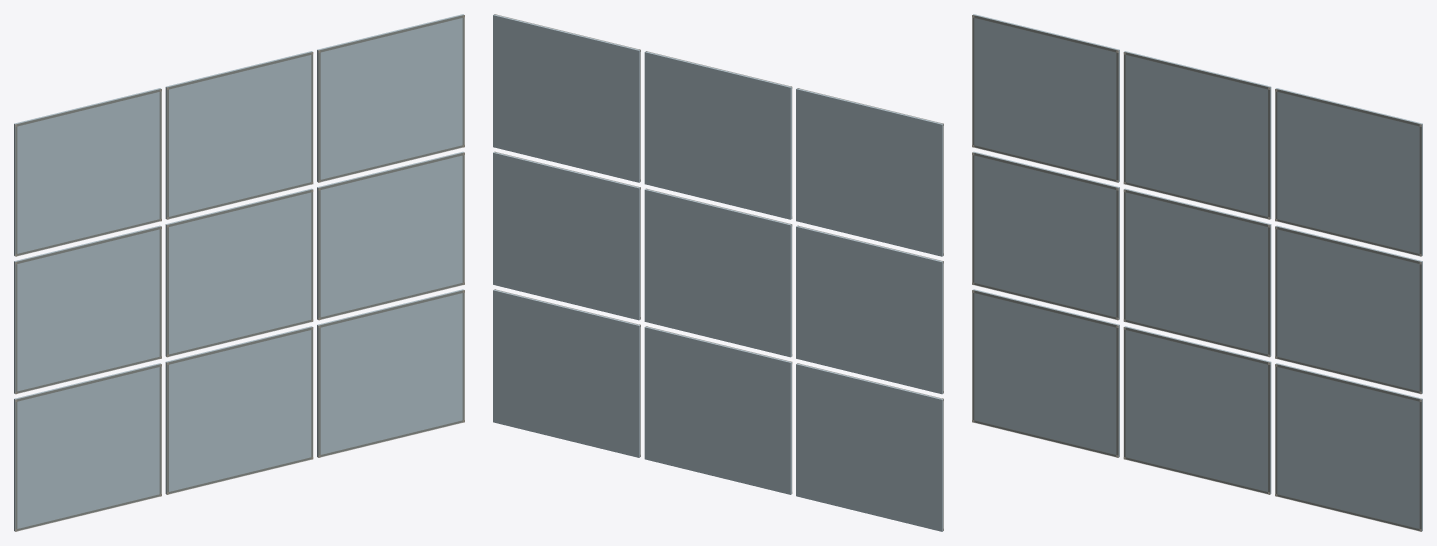
Rendered from PubWindowGlass.glb.
3 views of the same model, side by side, from view 1: azimuth 30°, elevation 25°; view 2: azimuth 150°, elevation 25°; view 3: azimuth 330°, elevation 25° (orthographic).
Parts seen in each view (by area): view 1: ClearPane_2_0, ClearPane_0_0.001, ClearPane_0_1.001, ClearPane_1_0.001, ClearPane_1_1.001, ClearPane_1_2.001, ClearPane_2_1, ClearPane_2_2, ClearPane_0_2.001; view 2: ClearPane_0_2.001, ClearPane_2_0, ClearPane_1_2.001, ClearPane_0_1.001, ClearPane_1_0.001, ClearPane_1_1.001, ClearPane_2_1, ClearPane_2_2, ClearPane_0_0.001; view 3: ClearPane_0_0.001, ClearPane_2_0, ClearPane_0_1.001, ClearPane_0_2.001, ClearPane_1_0.001, ClearPane_1_1.001, ClearPane_1_2.001, ClearPane_2_1, ClearPane_2_2.
Part boxes in pixels (x1,y1,x2,y2): ClearPane_2_0: (317,289,464,457); ClearPane_0_0.001: (14,363,161,531); ClearPane_0_1.001: (14,225,161,393); ClearPane_1_0.001: (165,326,312,494); ClearPane_1_1.001: (165,188,312,356); ClearPane_1_2.001: (165,51,312,218); ClearPane_2_1: (317,151,464,319); ClearPane_2_2: (317,14,464,182); ClearPane_0_2.001: (14,88,161,255); ClearPane_0_2.001: (796,88,943,256); ClearPane_2_0: (493,289,640,457); ClearPane_1_2.001: (644,51,791,219); ClearPane_0_1.001: (796,226,943,394); ClearPane_1_0.001: (644,326,791,494); ClearPane_1_1.001: (644,189,791,357); ClearPane_2_1: (493,152,640,320); ClearPane_2_2: (493,14,640,182); ClearPane_0_0.001: (796,363,943,531); ClearPane_0_0.001: (972,289,1119,457); ClearPane_2_0: (1275,363,1422,531); ClearPane_0_1.001: (972,151,1119,319); ClearPane_0_2.001: (972,14,1119,182); ClearPane_1_0.001: (1124,326,1271,494); ClearPane_1_1.001: (1124,188,1271,356); ClearPane_1_2.001: (1124,51,1271,218); ClearPane_2_1: (1275,225,1422,393); ClearPane_2_2: (1275,88,1422,255).
Bounding box in the file's own units: 5.97 × 5.17 × 0.0365.
